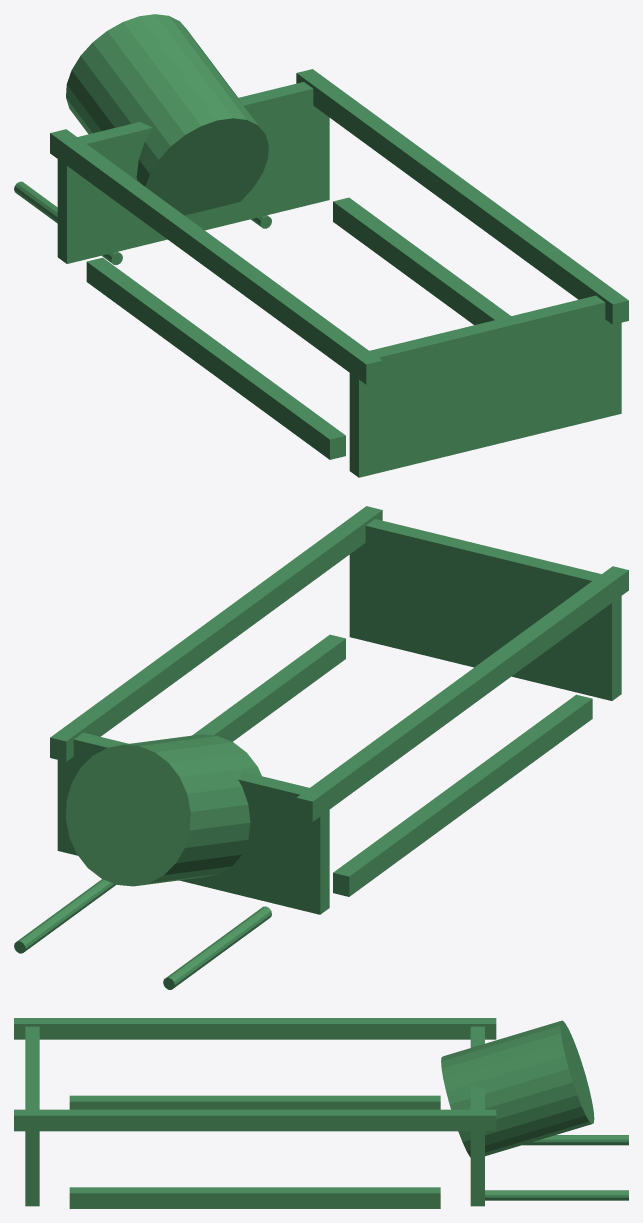
Rendered from robot_chassis.glb.
3 renders of one model, top to bottom at view 1: azimuth 30°, elevation 25°; view 2: azimuth 150°, elevation 25°; view 3: azimuth 270°, elevation 25°, orthographic. The views are drawn at different scales.
Visible parts, largest first — view 1: geometry_0; view 2: geometry_0; view 3: geometry_0.
Boxes of the visible parts, x1=… form: geometry_0: x1=14, y1=14, x2=628, y2=477; geometry_0: x1=14, y1=506, x2=628, y2=989; geometry_0: x1=14, y1=1018, x2=628, y2=1208.
Bounding box in the file's own units: 0.81 × 0.5676 × 2.15.
